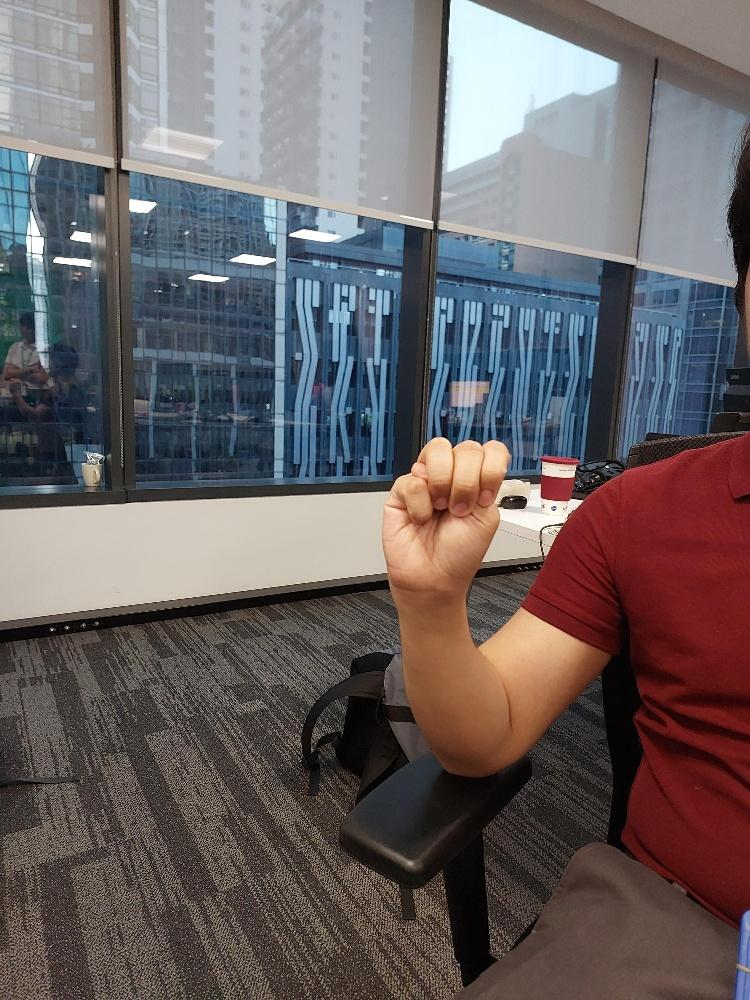m: (378, 433, 513, 611)
